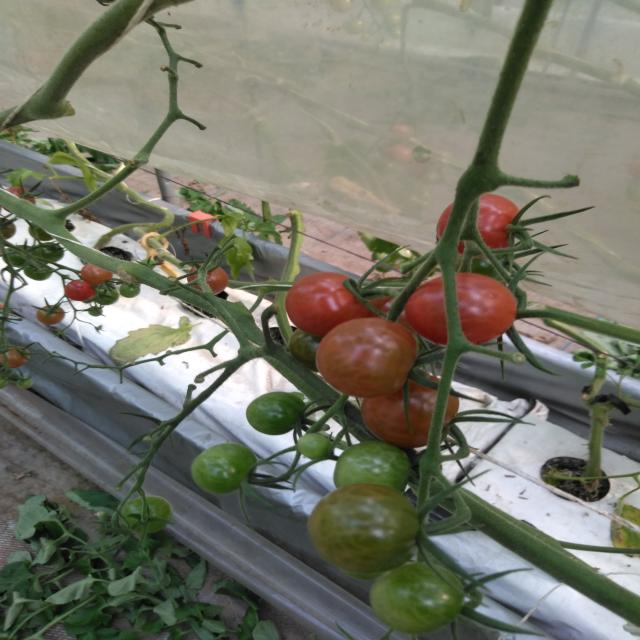c-half-riped: (314, 317, 420, 399), (359, 370, 460, 448), (187, 263, 229, 295), (81, 263, 113, 285), (1, 346, 31, 369), (36, 304, 65, 325)
c-riped: (406, 272, 517, 348), (436, 192, 520, 259), (284, 271, 368, 335), (63, 278, 96, 301)
c-unriped: (306, 482, 422, 574), (369, 560, 465, 635), (333, 440, 410, 494), (191, 442, 258, 494), (245, 392, 307, 436), (121, 494, 172, 534), (289, 327, 325, 372), (297, 432, 330, 460), (3, 245, 35, 268), (32, 242, 65, 264), (92, 282, 120, 306), (24, 262, 53, 281), (120, 282, 140, 298), (140, 258, 158, 270), (89, 306, 102, 316)
